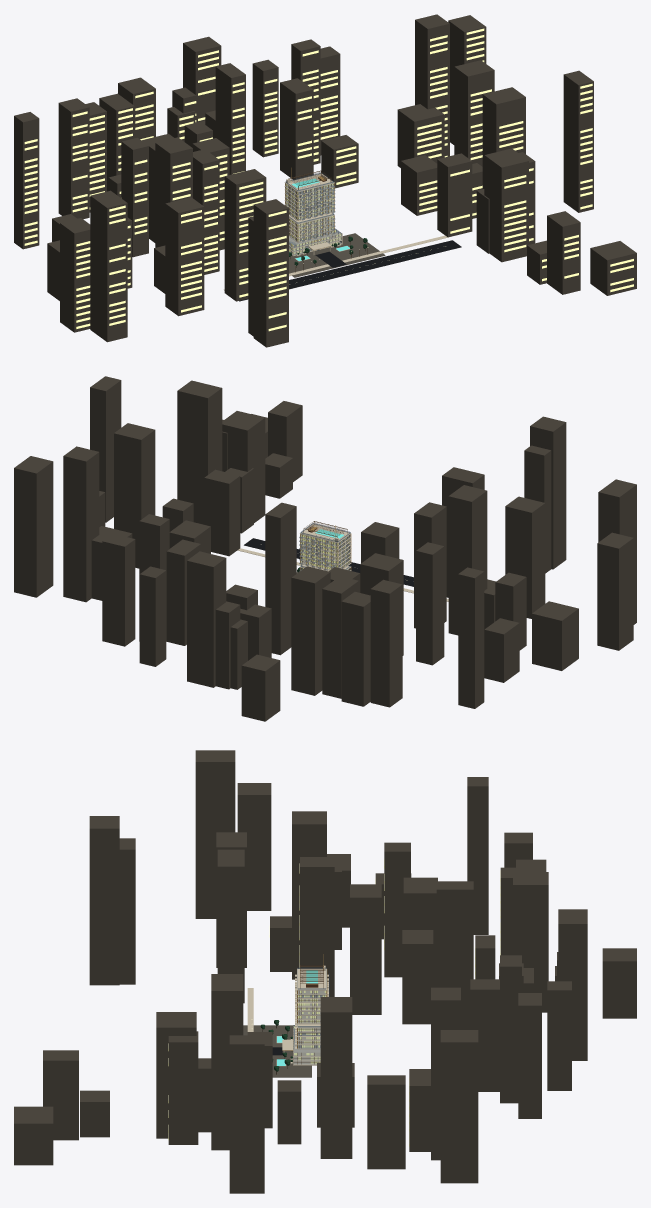
The model's file is hotel.glb.
3 views of the same model, one above another, from view 1: azimuth 30°, elevation 25°; view 2: azimuth 150°, elevation 25°; view 3: azimuth 270°, elevation 25° (orthographic). The views are drawn at different scales.
Visible parts, largest first — view 1: City_Blocks, City_Windows, Slabs, CurtainGlass, Site_Road, Site_Plaza, RoomGlow, Mullions, Balconies, Site_Sidewalk; view 2: City_Blocks, Slabs, CurtainGlass, RoomGlow, Mullions; view 3: City_Blocks, Slabs, CurtainGlass, Site_Plaza, RoomGlow.
Part boxes in pixels (box(x1,y1,x2,y2)): City_Blocks: box(14, 14, 636, 347); City_Windows: box(24, 28, 633, 331); Slabs: box(284, 173, 342, 256); CurtainGlass: box(285, 173, 341, 254); Site_Road: box(239, 240, 461, 301); Site_Plaza: box(289, 233, 385, 277); RoomGlow: box(286, 183, 341, 254); Mullions: box(285, 184, 341, 252); Balconies: box(301, 186, 335, 241); Site_Sidewalk: box(224, 235, 448, 290); City_Blocks: box(14, 376, 636, 721); Slabs: box(300, 524, 351, 571); CurtainGlass: box(300, 523, 350, 570); RoomGlow: box(301, 534, 349, 569); Mullions: box(300, 534, 350, 570); City_Blocks: box(14, 750, 636, 1193); Slabs: box(293, 968, 326, 1065); CurtainGlass: box(293, 967, 326, 1064); Site_Plaza: box(243, 1025, 311, 1077); RoomGlow: box(294, 990, 326, 1063).
Size of the model in its own units: 511 by 130 by 456.
